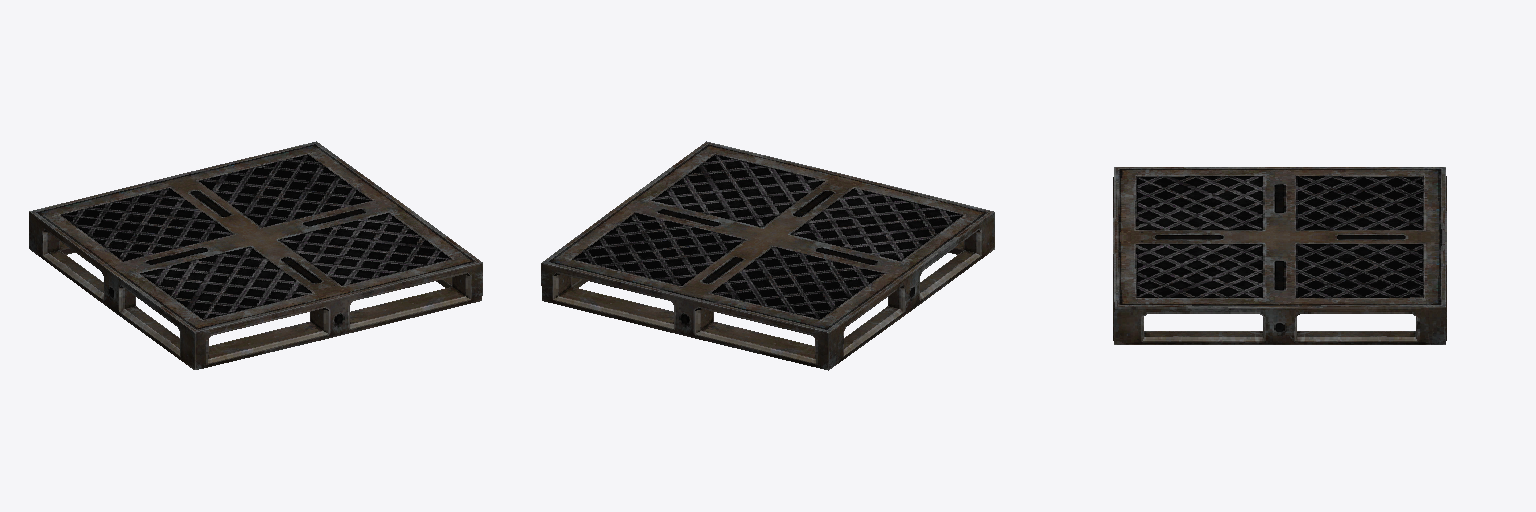
3 renders of one model, left to right at view 1: azimuth 30°, elevation 25°; view 2: azimuth 150°, elevation 25°; view 3: azimuth 270°, elevation 25°, orthographic.
Bounding box in the file's own units: 2.56 × 0.32 × 2.56.
1 materials, 1 textured.